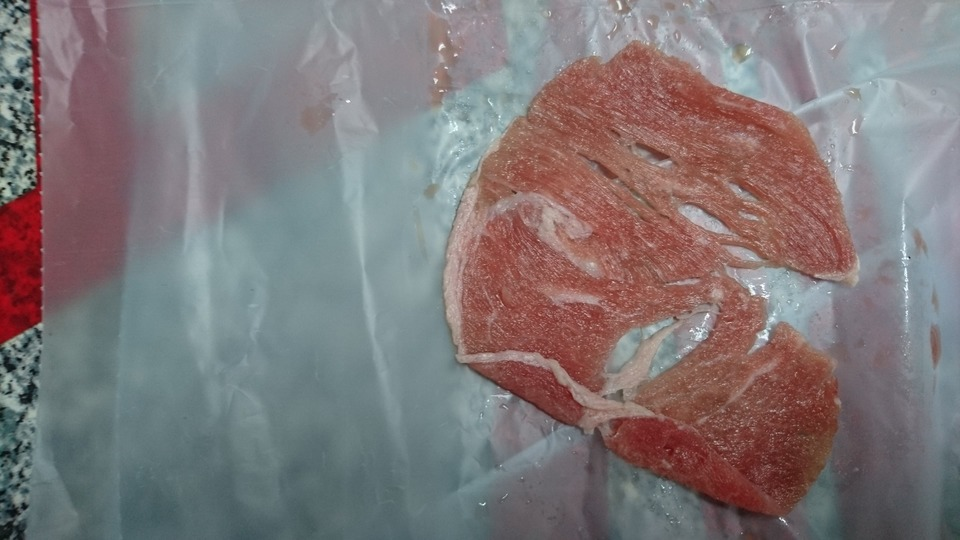restructured meat: (382, 66, 889, 524)
